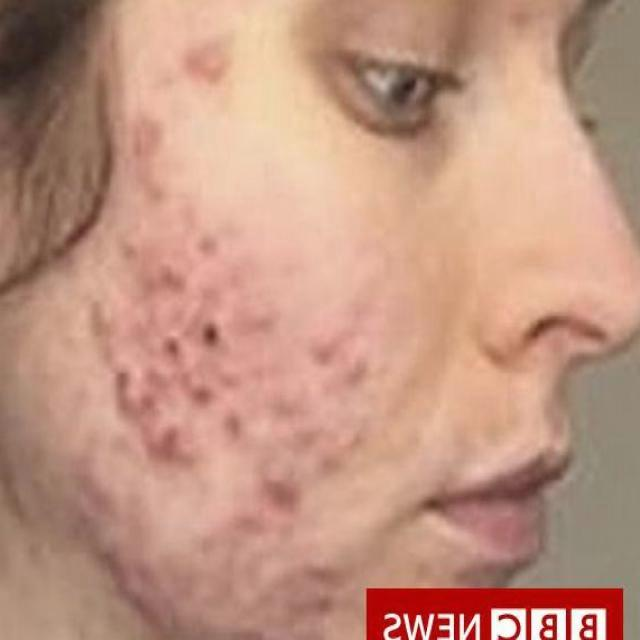Pimples: (190, 24, 238, 86), (261, 455, 302, 509), (154, 403, 187, 463), (130, 108, 165, 164), (308, 326, 345, 370), (308, 554, 356, 587), (153, 256, 184, 292), (192, 224, 222, 260), (223, 403, 248, 442), (88, 298, 115, 334), (116, 224, 142, 260), (346, 346, 370, 384), (161, 329, 183, 366), (202, 317, 220, 360), (250, 300, 272, 333)
